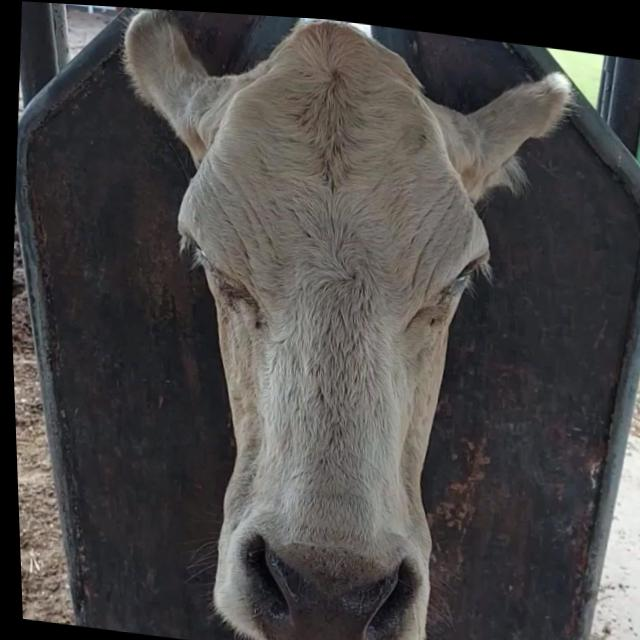cowFace: (145, 7, 519, 640)
